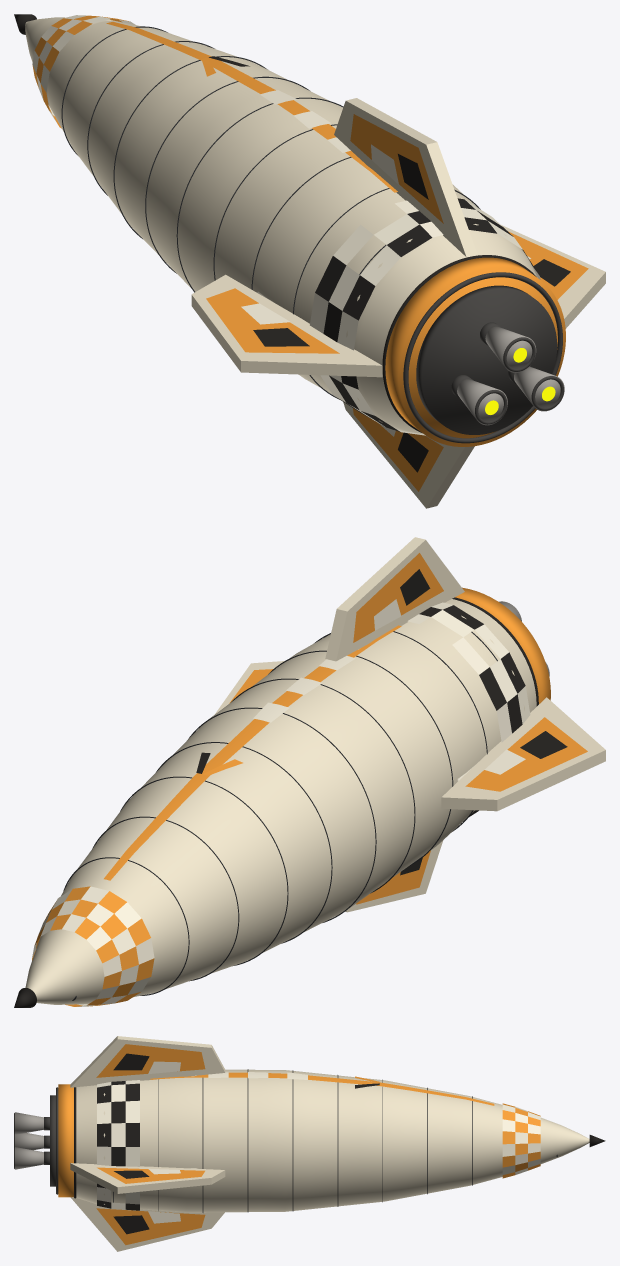
File: Ship_LunarCourier_95901.glb
3 views of the same model, one above another, from view 1: azimuth 30°, elevation 25°; view 2: azimuth 150°, elevation 25°; view 3: azimuth 270°, elevation 25° (orthographic). The views are drawn at different scales.
Parts seen in each view (by area): view 1: Fuselage_TaperedPaintedBody, EngineDeck_AftDarkMountPlate, AftCollar_PrimaryEngineBand, TailFin_Left_slender_CreamAerofoil, TailFin_Dorsal_slender_CreamAerofoil, TailFinPanel_Left_PrimarySide_B, AftTrimRing_DarkRear, TailFinPanel_Dorsal_PrimarySide_A, TailFin_Ventral_slender_CreamAerofoil, PaintStripe_DorsalPrimarySpine, TailFinPanel_Ventral_PrimarySide_B, TailFin_Right_slender_CreamAerofoil (+14 smaller); view 2: Fuselage_TaperedPaintedBody, TailFin_Left_slender_CreamAerofoil, NoseCone_PaintedNeedleSection, TailFin_Dorsal_slender_CreamAerofoil, PaintStripe_DorsalPrimarySpine, TailFinPanel_Left_PrimarySide_B, TailFinPanel_Dorsal_PrimarySide_A, AftCollar_PrimaryEngineBand, TailFinPanel_Ventral_PrimarySide_B, TailFin_Ventral_slender_CreamAerofoil, TailFinCheckerPatch_Left_01_B; view 3: Fuselage_TaperedPaintedBody, TailFin_Dorsal_slender_CreamAerofoil, TailFin_Right_slender_CreamAerofoil, AftCollar_PrimaryEngineBand, TailFinPanel_Ventral_PrimarySide_A, TailFinPanel_Dorsal_PrimarySide_B, TailFin_Ventral_slender_CreamAerofoil, NoseCone_PaintedNeedleSection, PaintStripe_DorsalPrimarySpine, TailFinPanel_Right_PrimarySide_A, EngineDeck_AftDarkMountPlate, EngineBell_Upper_BurnishedNozzle (+14 smaller).
Part boxes in pixels (bbox=[...]): Fuselage_TaperedPaintedBody: bbox=[46, 19, 537, 433]; EngineDeck_AftDarkMountPlate: bbox=[416, 285, 557, 434]; AftCollar_PrimaryEngineBand: bbox=[385, 257, 565, 446]; TailFin_Left_slender_CreamAerofoil: bbox=[191, 274, 382, 377]; TailFin_Dorsal_slender_CreamAerofoil: bbox=[334, 98, 477, 257]; TailFinPanel_Left_PrimarySide_B: bbox=[206, 288, 339, 353]; AftTrimRing_DarkRear: bbox=[403, 272, 562, 443]; TailFinPanel_Dorsal_PrimarySide_A: bbox=[350, 114, 443, 223]; TailFin_Ventral_slender_CreamAerofoil: bbox=[343, 402, 474, 508]; PaintStripe_DorsalPrimarySpine: bbox=[106, 22, 397, 192]; TailFinPanel_Ventral_PrimarySide_B: bbox=[353, 408, 443, 491]; TailFin_Right_slender_CreamAerofoil: bbox=[501, 225, 605, 328]; Fuselage_TaperedPaintedBody: bbox=[61, 599, 536, 996]; TailFin_Left_slender_CreamAerofoil: bbox=[441, 697, 605, 811]; NoseCone_PaintedNeedleSection: bbox=[25, 929, 104, 1004]; TailFin_Dorsal_slender_CreamAerofoil: bbox=[325, 537, 464, 661]; PaintStripe_DorsalPrimarySpine: bbox=[104, 625, 401, 880]; TailFinPanel_Left_PrimarySide_B: bbox=[465, 717, 587, 791]; TailFinPanel_Dorsal_PrimarySide_A: bbox=[353, 553, 443, 642]; AftCollar_PrimaryEngineBand: bbox=[455, 587, 550, 703]; TailFinPanel_Ventral_PrimarySide_B: bbox=[356, 850, 430, 904]; TailFin_Ventral_slender_CreamAerofoil: bbox=[345, 840, 443, 912]; TailFinCheckerPatch_Left_01_B: bbox=[520, 731, 567, 758]; Fuselage_TaperedPaintedBody: bbox=[76, 1069, 502, 1212]; TailFin_Dorsal_slender_CreamAerofoil: bbox=[70, 1036, 225, 1087]; TailFin_Right_slender_CreamAerofoil: bbox=[70, 1163, 225, 1193]; AftCollar_PrimaryEngineBand: bbox=[58, 1084, 73, 1197]; TailFinPanel_Ventral_PrimarySide_A: bbox=[96, 1208, 205, 1245]; TailFinPanel_Dorsal_PrimarySide_B: bbox=[96, 1044, 205, 1077]; TailFin_Ventral_slender_CreamAerofoil: bbox=[70, 1197, 224, 1251]; NoseCone_PaintedNeedleSection: bbox=[540, 1117, 589, 1163]; PaintStripe_DorsalPrimarySpine: bbox=[150, 1072, 494, 1105]; TailFinPanel_Right_PrimarySide_A: bbox=[97, 1167, 204, 1183]; EngineDeck_AftDarkMountPlate: bbox=[50, 1095, 55, 1186]; EngineBell_Upper_BurnishedNozzle: bbox=[15, 1112, 43, 1134].
Size of the model in its own units: 3.53 by 3.36 by 8.49.
